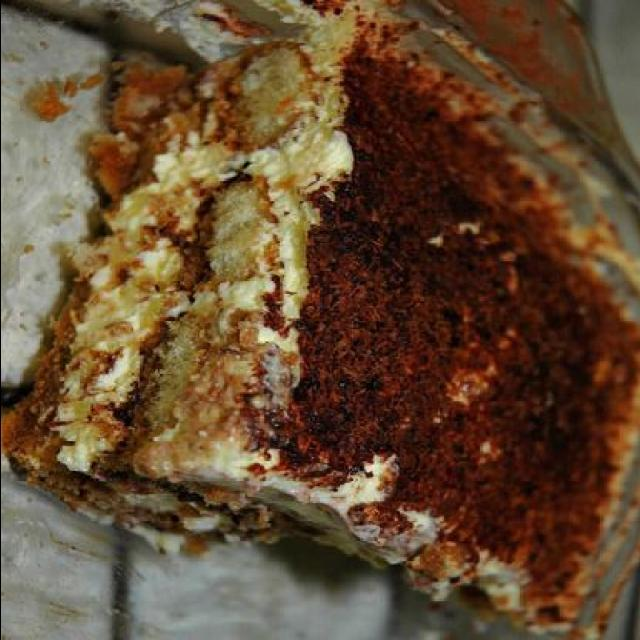Tiramisu: (29, 37, 612, 569)
